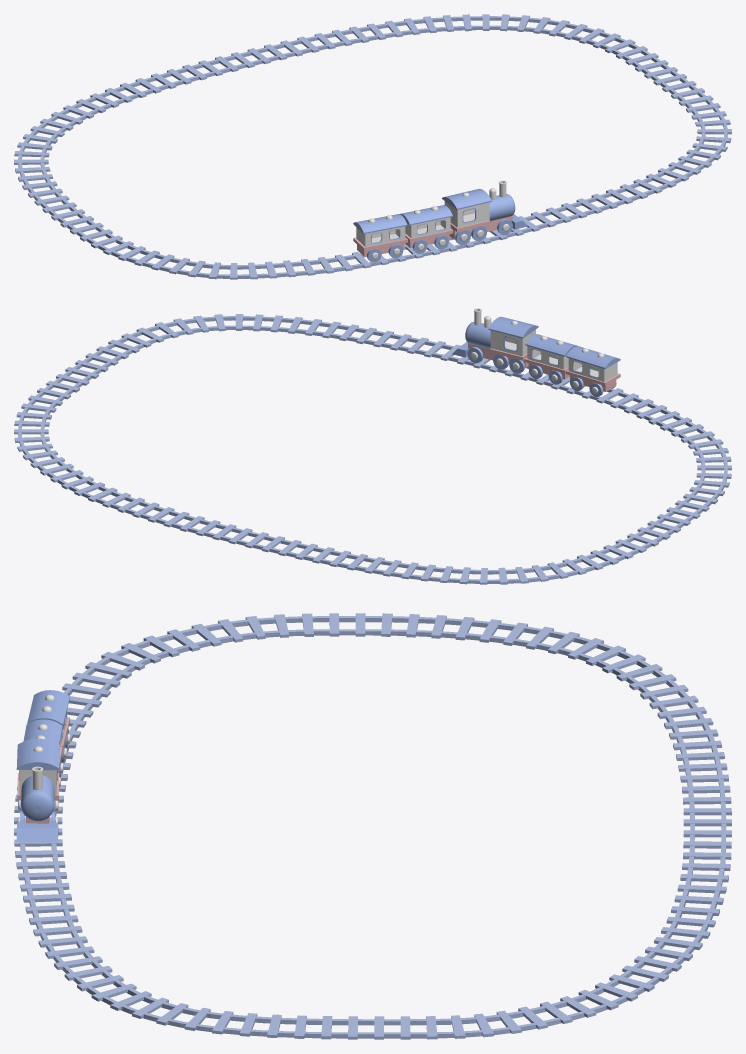
File: TrainOld.glb
The picture shows the model from 3 angles, top to bottom: view 1: azimuth 30°, elevation 25°; view 2: azimuth 150°, elevation 25°; view 3: azimuth 270°, elevation 25°; orthographic projection. The views are drawn at different scales.
Visible parts, largest first — view 1: Cylinder.030, Head.003, Head.001, Head.000; view 2: Cylinder.030, Head.003, Head.001, Head.000; view 3: Cylinder.030, Head.003, Head.001, Head.000.
Part boxes in pixels (x1,y1,x2,y2): Cylinder.030: [14, 14, 731, 279]; Head.003: [442, 180, 527, 245]; Head.001: [353, 214, 407, 262]; Head.000: [400, 205, 453, 253]; Cylinder.030: [14, 314, 731, 584]; Head.003: [452, 308, 538, 373]; Head.001: [565, 346, 620, 396]; Head.000: [524, 334, 578, 384]; Cylinder.030: [14, 613, 731, 1039]; Head.003: [16, 738, 59, 841]; Head.001: [27, 690, 70, 762]; Head.000: [23, 719, 63, 786].
Size of the model in its own units: 7.84 by 0.6093 by 5.62.
